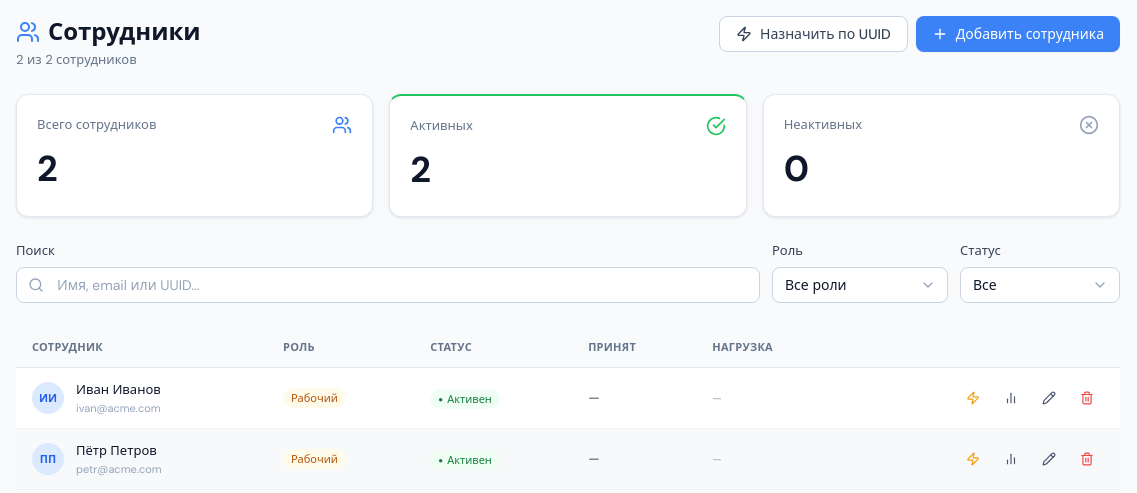
Scenario: EmployeesPage › filters employees by search query
The width and height of the screenshot is (1137, 493).
In the field with placeholder "Имя, email или UUID...": {"x": 388, "y": 285} [16,267,760,303], type "Иван"
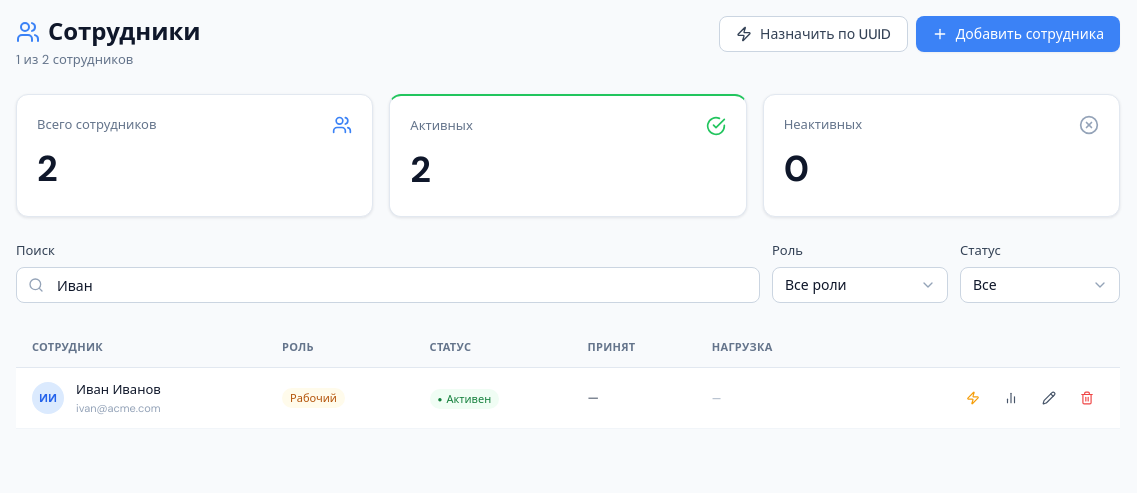
Check: the text "Иван Иванов" is shown, box [76,380,161,400]
Check: the text "Пётр Петров" is gone
